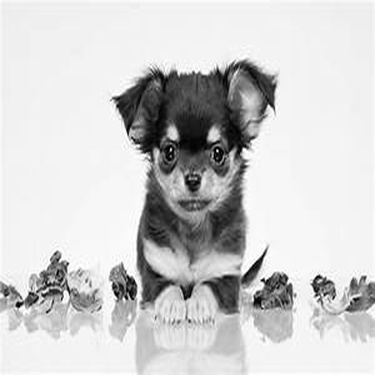dog: (91, 50, 292, 334)
